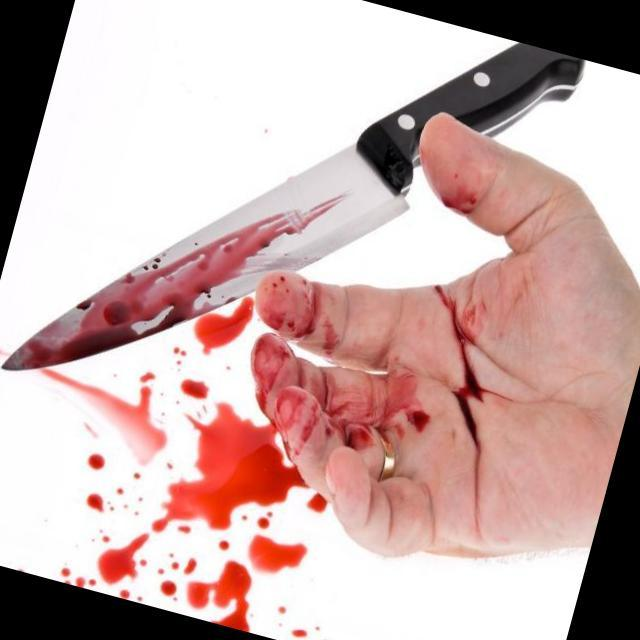Knife: (0, 0, 597, 505)
